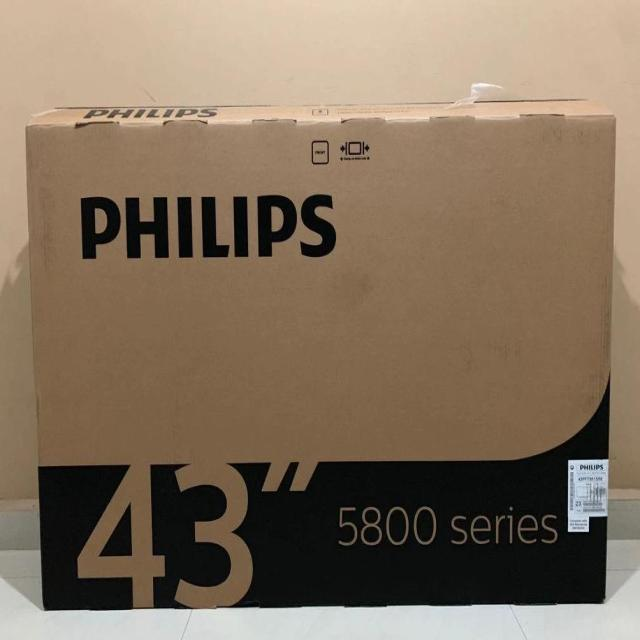cardboard: (25, 94, 617, 612)
